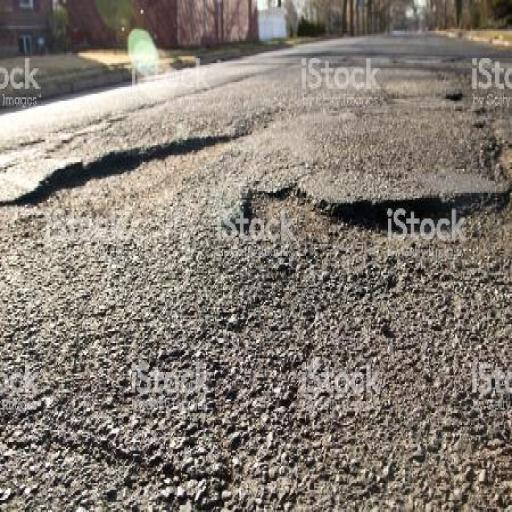pothole: (7, 125, 246, 232), (233, 179, 511, 256)
